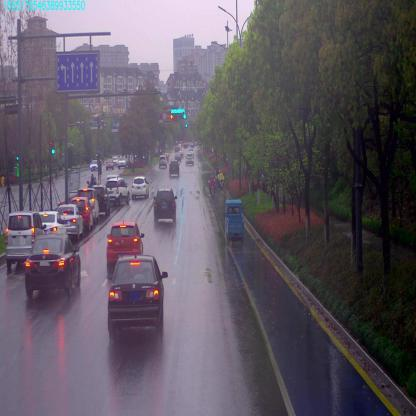traffic-light: (170, 107, 186, 113), (180, 113, 186, 120), (170, 113, 175, 120)
